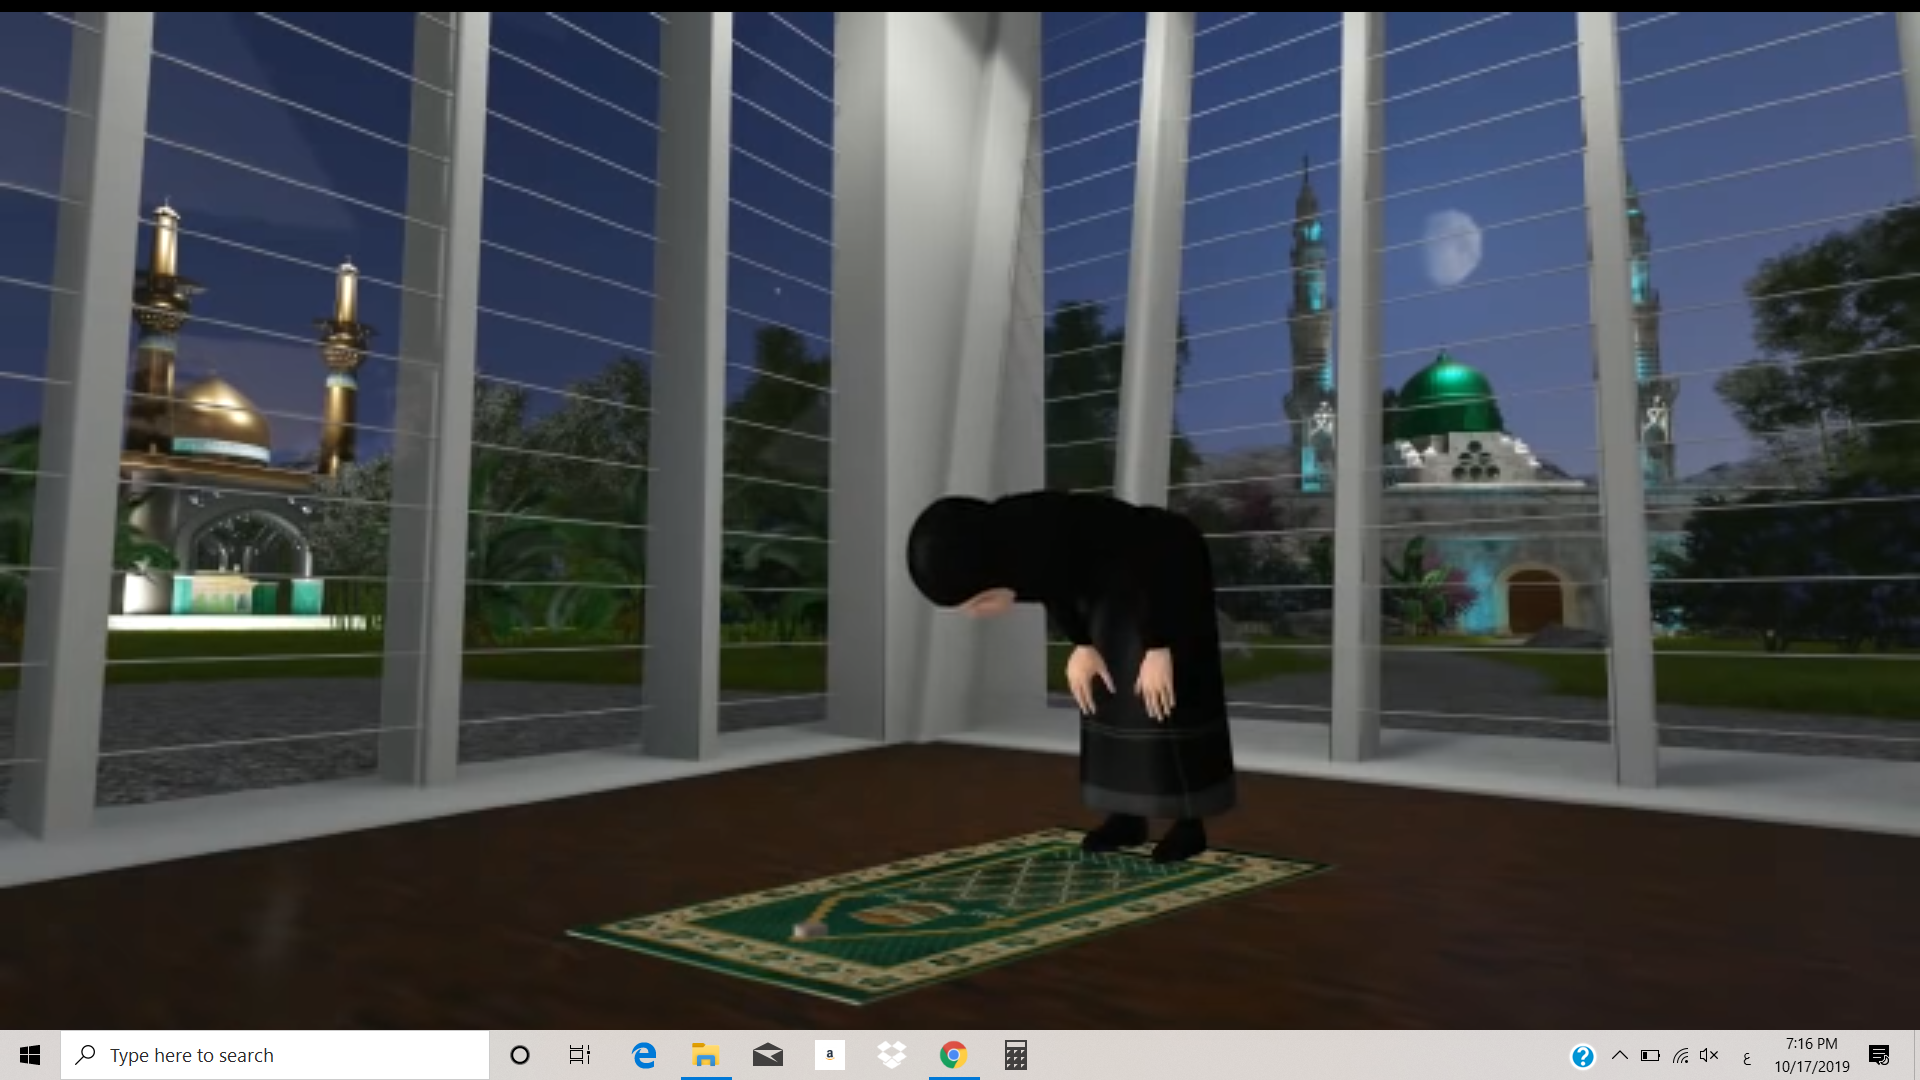ruku: (717, 305, 1619, 1051)
